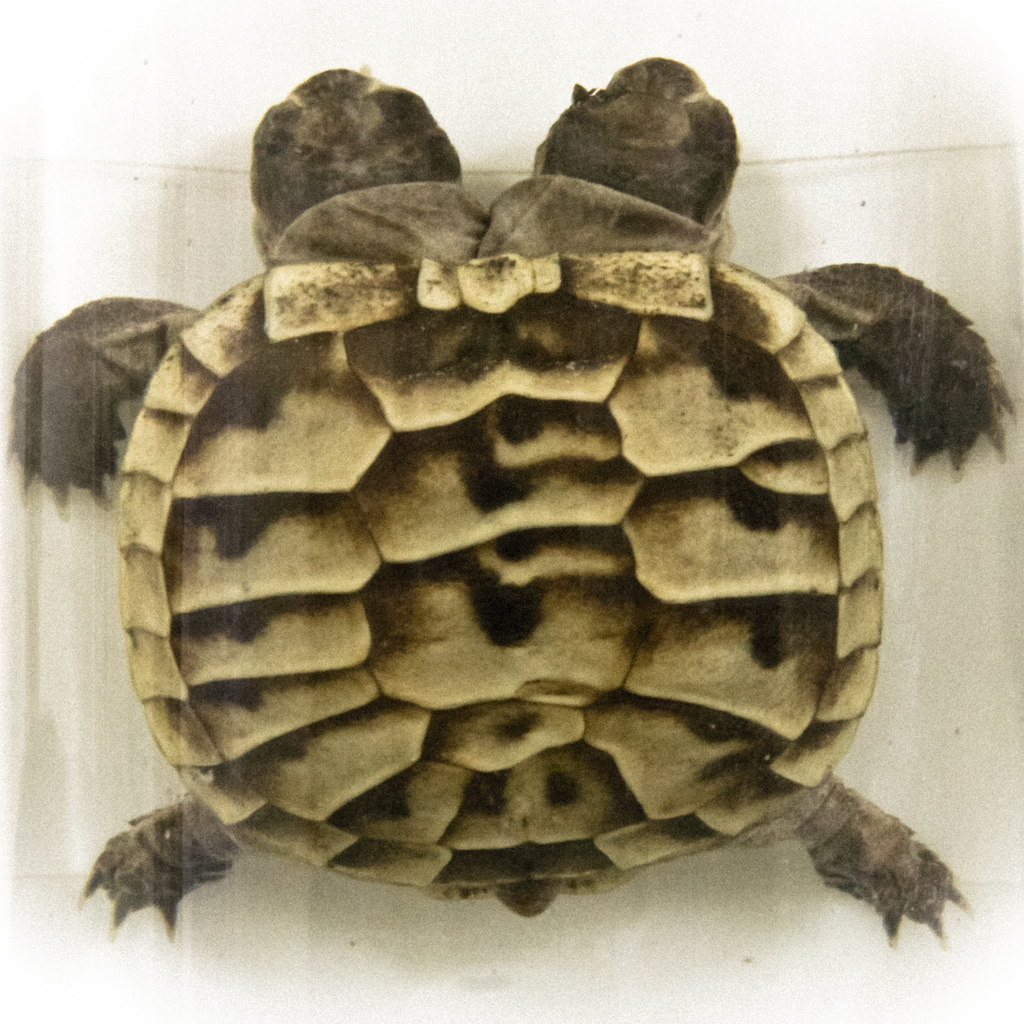Sea turtles: (0, 49, 1020, 952)
